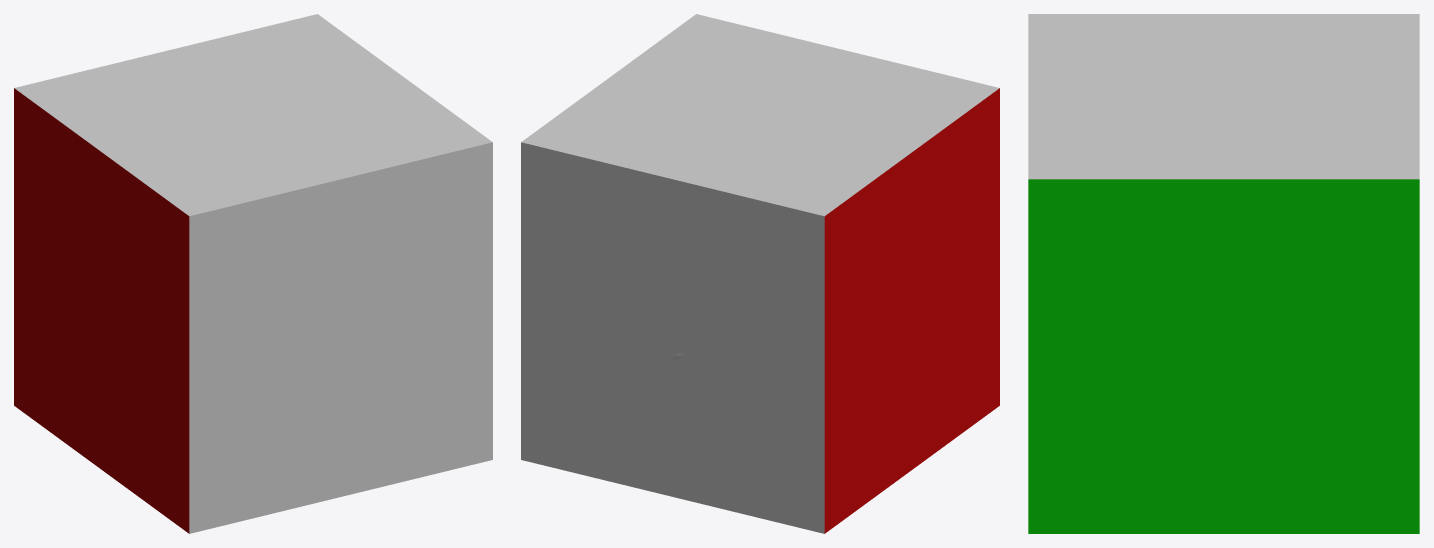
Rendered from Cornell box_Monkey.obj.
3 views of the same model, side by side, from view 1: azimuth 30°, elevation 25°; view 2: azimuth 150°, elevation 25°; view 3: azimuth 270°, elevation 25° (orthographic). The views are drawn at different scales.
Parts seen in each view (by area): view 1: Cube.001_Cube.003; view 2: Cube.001_Cube.003; view 3: Cube.001_Cube.003.
Boxes of the visible parts, x1,y1,x2,y2 form: Cube.001_Cube.003: (14,14,492,533); Cube.001_Cube.003: (521,14,999,533); Cube.001_Cube.003: (1028,14,1419,533).
Bounding box in the file's own units: 2 × 2 × 2.
